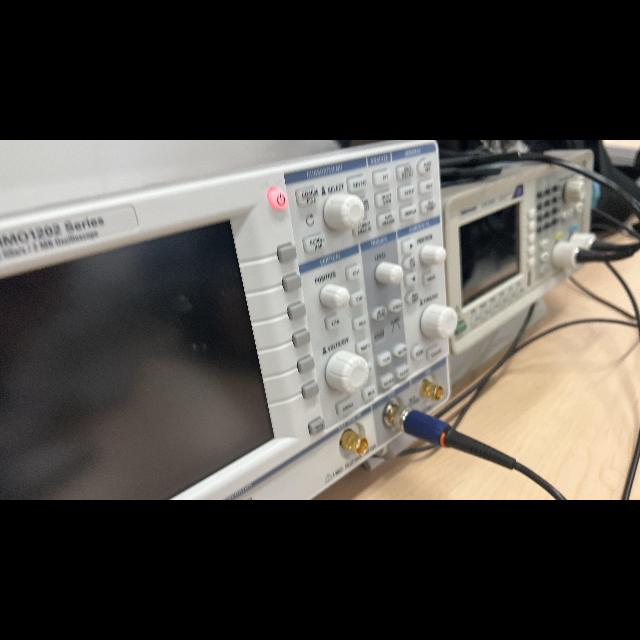Digital-Oscilloscope: (0, 141, 457, 499)
